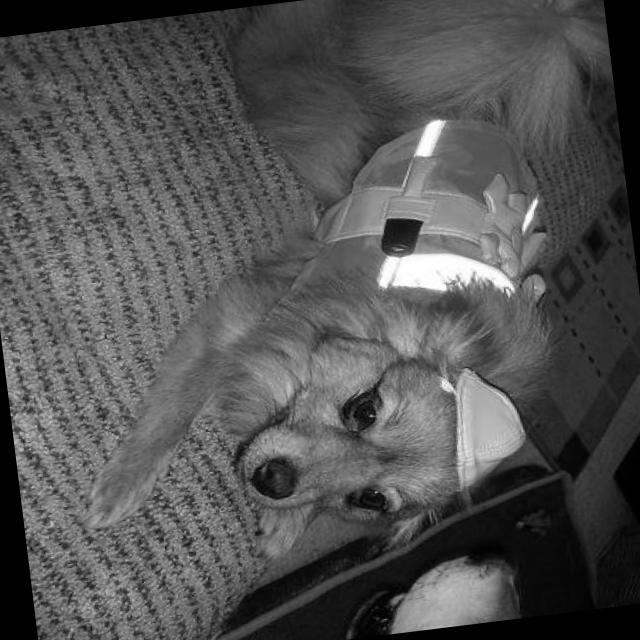laying down: (23, 0, 640, 585)
